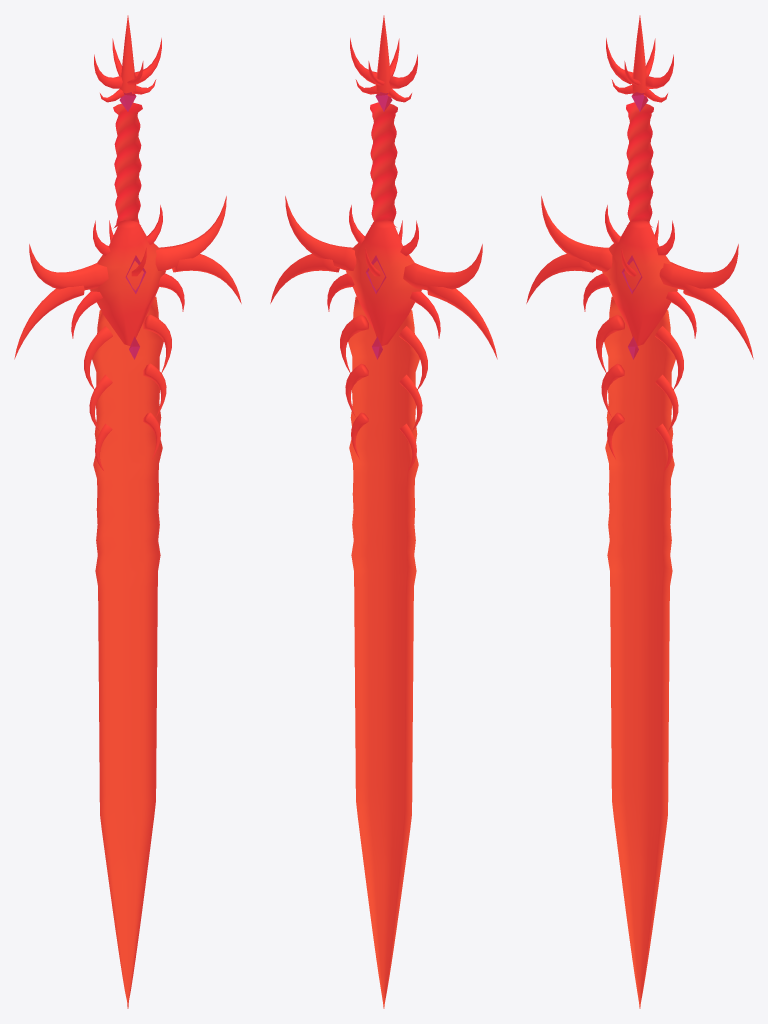
The model's file is EspadaVeraxion.glb.
3 views of the same model, side by side, from view 1: azimuth 30°, elevation 25°; view 2: azimuth 150°, elevation 25°; view 3: azimuth 330°, elevation 25° (orthographic).
Parts seen in each view (by area): view 1: EspadaVeraxion; view 2: EspadaVeraxion; view 3: EspadaVeraxion.
Part boxes in pixels (bbox=[...]): EspadaVeraxion: bbox=[14, 15, 241, 1008]; EspadaVeraxion: bbox=[270, 15, 497, 1008]; EspadaVeraxion: bbox=[526, 15, 753, 1008].
Bounding box in the file's own units: 0.24 × 1 × 0.068.
